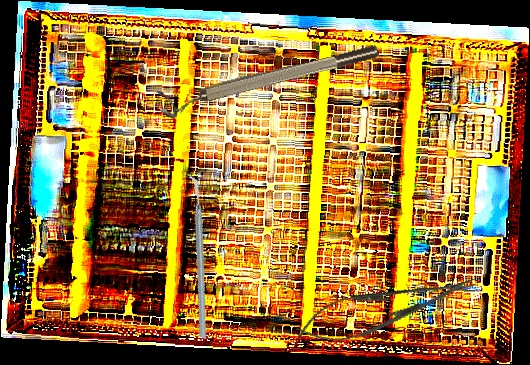Chopper: (133, 173, 261, 340)
Fixation Ring: (155, 40, 383, 122)
Needle Holder: (290, 260, 484, 356)
